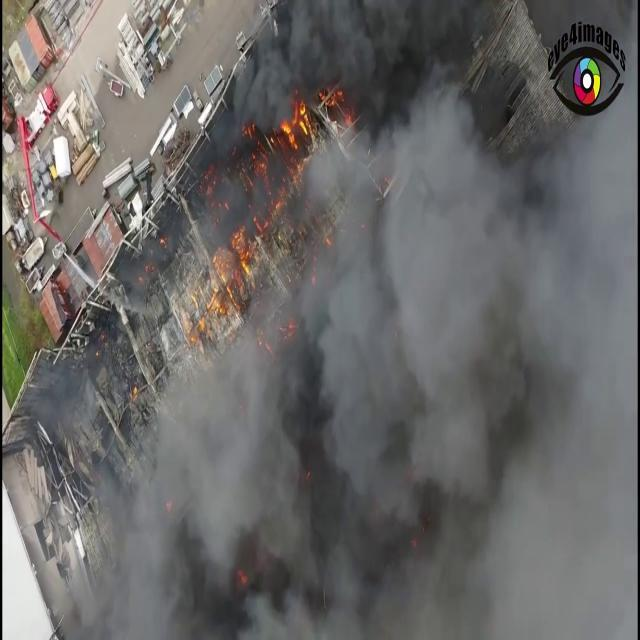Fire: (272, 94, 318, 165)
Smoke: (50, 0, 639, 640)
